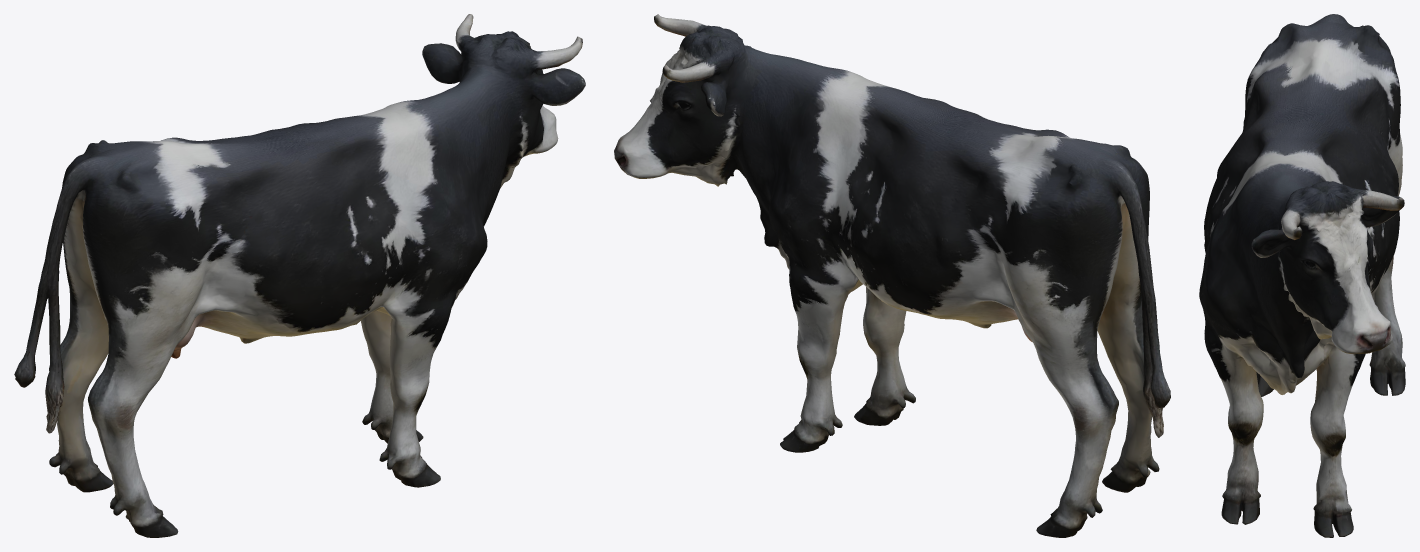
The model's file is cow-standing.glb.
The picture shows the model from 3 angles, left to right: view 1: azimuth 30°, elevation 25°; view 2: azimuth 150°, elevation 25°; view 3: azimuth 270°, elevation 25°; orthographic projection.
Visible parts, largest first — view 1: tripo_node_70b6e8aa-d13e-4f5e-b5a5-c263c45a2656; view 2: tripo_node_70b6e8aa-d13e-4f5e-b5a5-c263c45a2656; view 3: tripo_node_70b6e8aa-d13e-4f5e-b5a5-c263c45a2656.
Part boxes in pixels (x1=…): tripo_node_70b6e8aa-d13e-4f5e-b5a5-c263c45a2656: x1=14, y1=14, x2=585, y2=537; tripo_node_70b6e8aa-d13e-4f5e-b5a5-c263c45a2656: x1=614, y1=14, x2=1170, y2=537; tripo_node_70b6e8aa-d13e-4f5e-b5a5-c263c45a2656: x1=1199, y1=14, x2=1405, y2=537.
Size of the model in its own units: 2.21 by 1.5 by 0.7204.
1 material, 1 textured.
